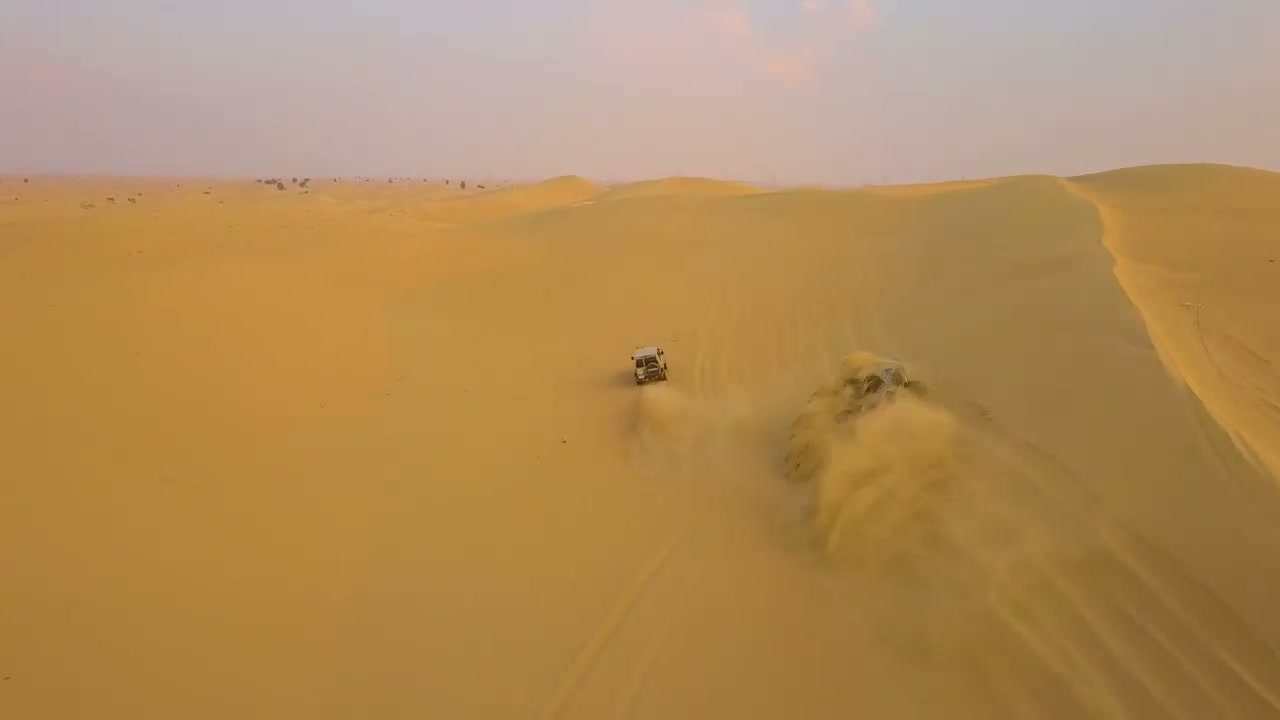vehicle_track: (946, 466, 1257, 717), (542, 518, 702, 719)
